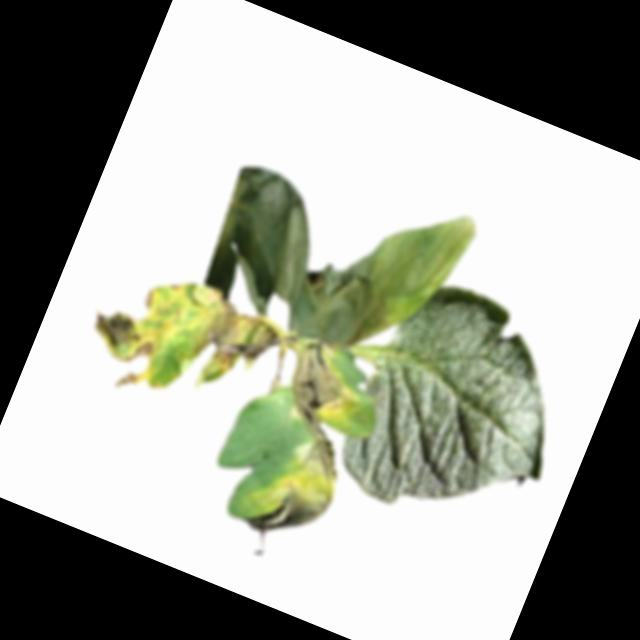Late_blight: (191, 130, 481, 382), (69, 248, 290, 438), (233, 414, 354, 553), (277, 339, 369, 437)
